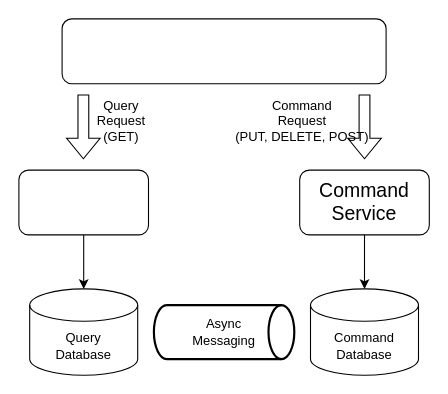
This 448x394 diagram has some shape labels left out. The centre of each missing label's shape, as x and y in pixels:
Client: point 223,51
Query Service: point 83,202
